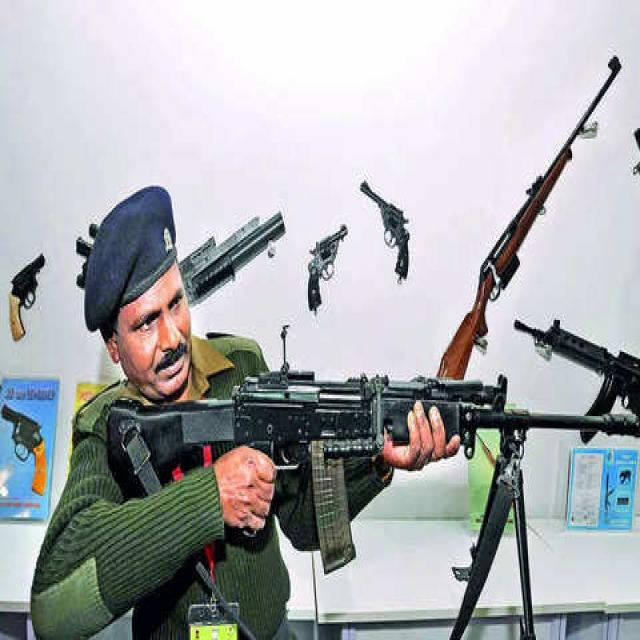pistol: (360, 172, 417, 290), (302, 225, 348, 323), (2, 402, 47, 501), (6, 250, 46, 342)
rifle: (109, 388, 640, 538), (515, 312, 640, 411)
sniper rifle: (417, 42, 631, 378)
